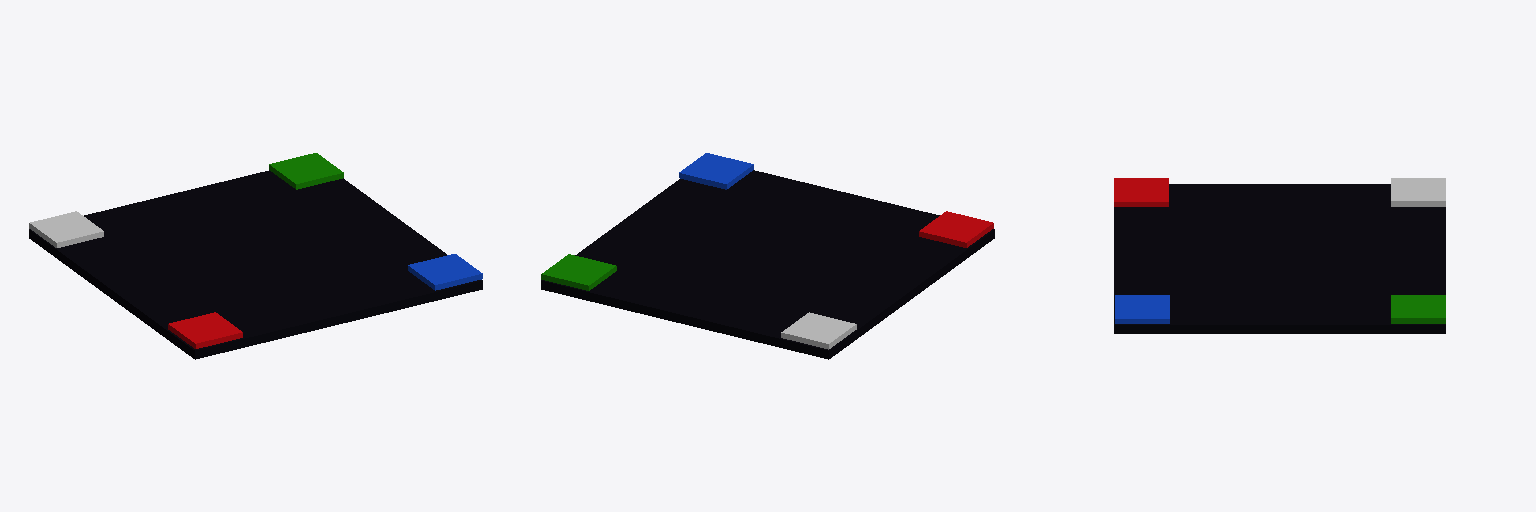
File: floor.obj
3 renders of one model, left to right at view 1: azimuth 30°, elevation 25°; view 2: azimuth 150°, elevation 25°; view 3: azimuth 270°, elevation 25°, orthographic.
Parts seen in each view (by area): view 1: Cube.001, Cube.002, Cube.004, Cube.005, Cube.003; view 2: Cube.001, Cube.002, Cube.003, Cube.004, Cube.005; view 3: Cube.001, Cube.002, Cube.003, Cube.004, Cube.005.
Part boxes in pixels (bbox=[...]): Cube.001: bbox=[29, 170, 482, 359]; Cube.002: bbox=[29, 211, 103, 247]; Cube.004: bbox=[408, 254, 482, 290]; Cube.005: bbox=[168, 312, 242, 348]; Cube.003: bbox=[269, 153, 343, 189]; Cube.001: bbox=[541, 170, 994, 359]; Cube.002: bbox=[781, 312, 856, 349]; Cube.003: bbox=[541, 254, 616, 290]; Cube.004: bbox=[679, 153, 753, 189]; Cube.005: bbox=[919, 211, 993, 247]; Cube.001: bbox=[1114, 184, 1445, 333]; Cube.002: bbox=[1391, 178, 1445, 206]; Cube.003: bbox=[1391, 295, 1445, 323]; Cube.004: bbox=[1115, 295, 1169, 323]; Cube.005: bbox=[1114, 178, 1168, 206].
Size of the model in its own units: 5.71 by 0.2898 by 5.7.